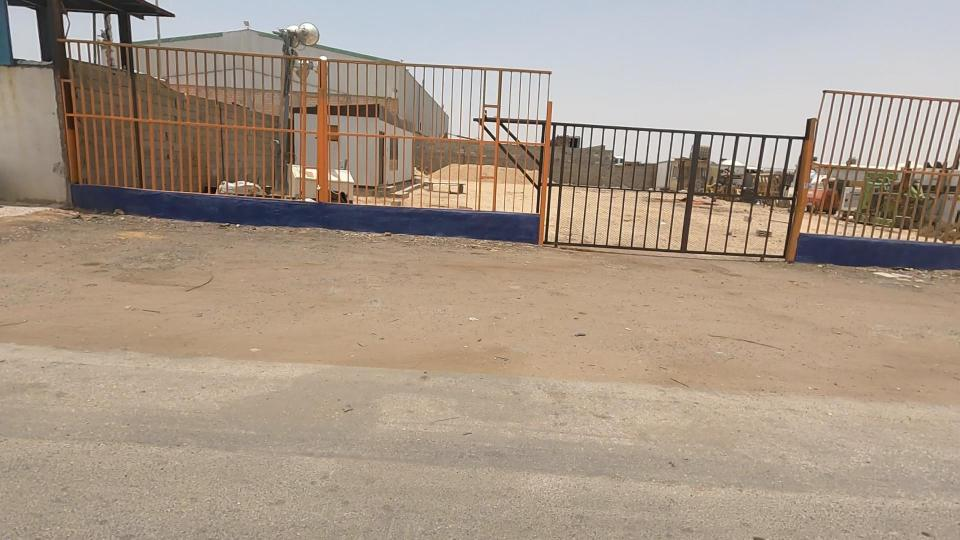GARBAGE: (827, 227, 954, 327)
